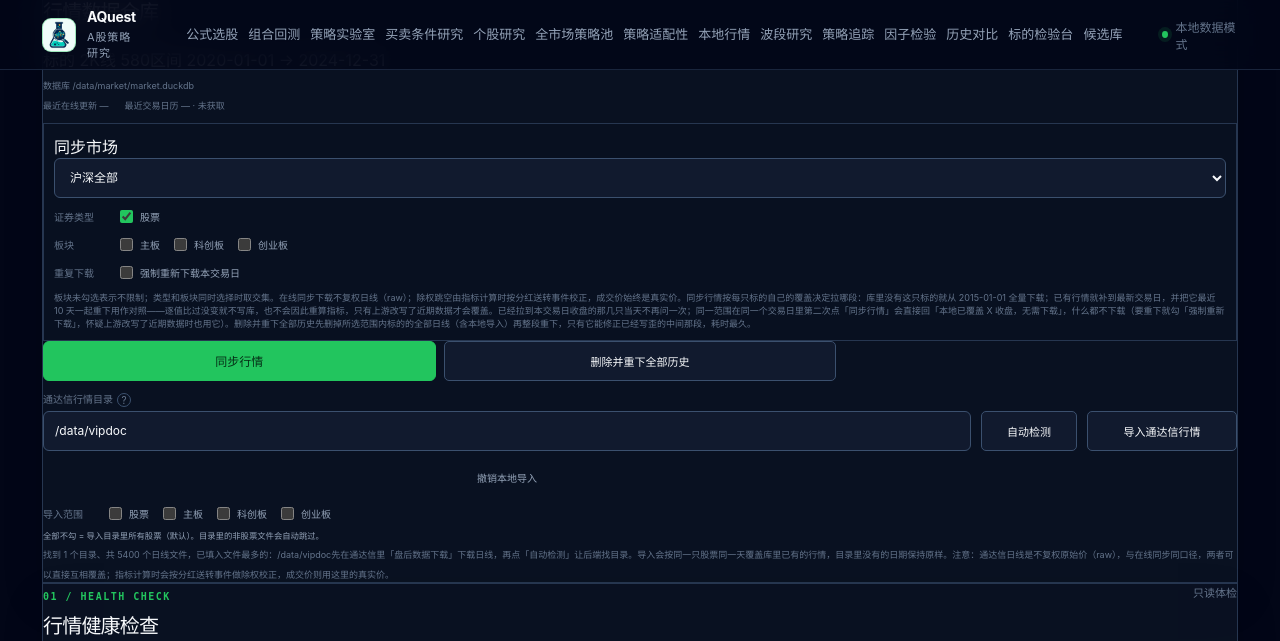
MarketDataPage › shows the current synchronized instrument and date range
(page scrolled)
Click the button with test id "market-sync-online". click: (239, 361)
box: [43,341,436,381]
(page scrolled)
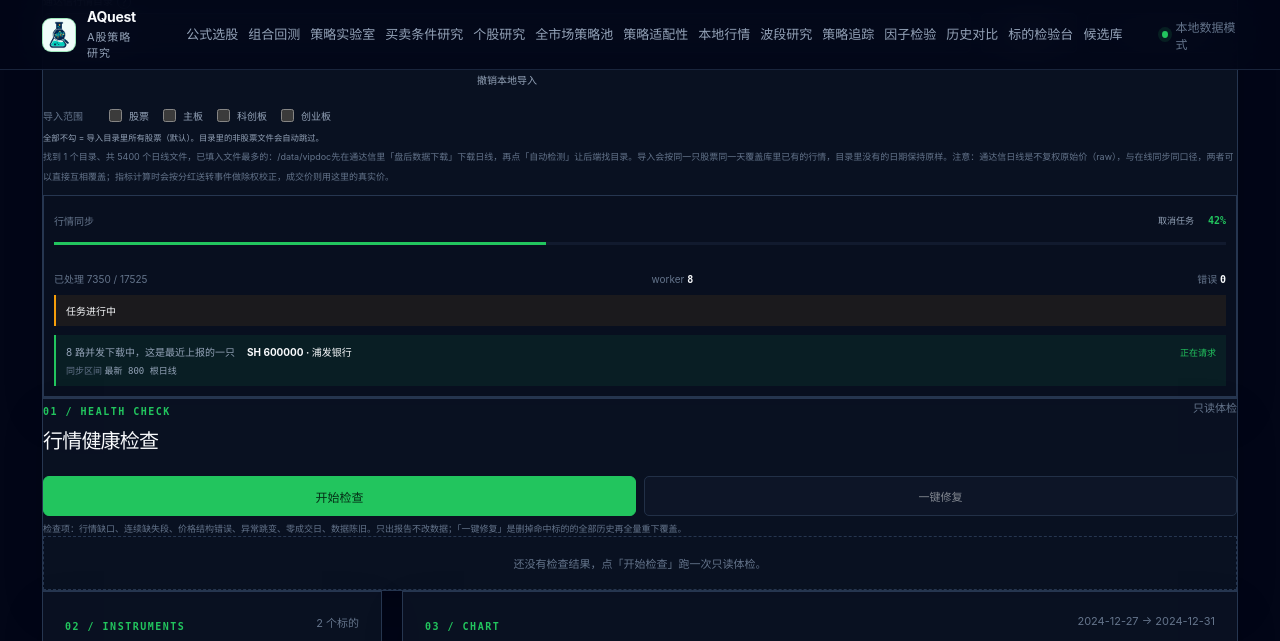
Expected: the element with test id "market-sync-current" shows "SH 600000 · 浦发银行", [247,346,352,358]
Expected: the element with test id "market-sync-current" shows "最新 800 根日线", [104,366,177,376]
